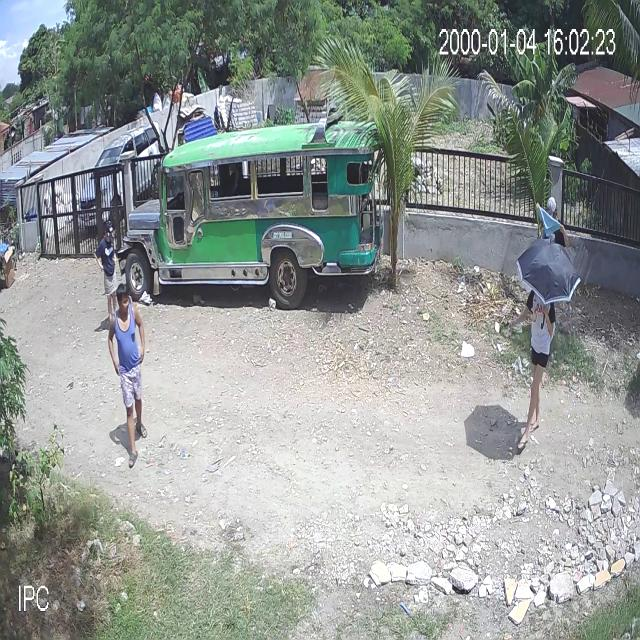standing: (96, 221, 123, 339)
walking: (522, 280, 568, 446), (111, 280, 148, 466), (536, 196, 570, 252)
